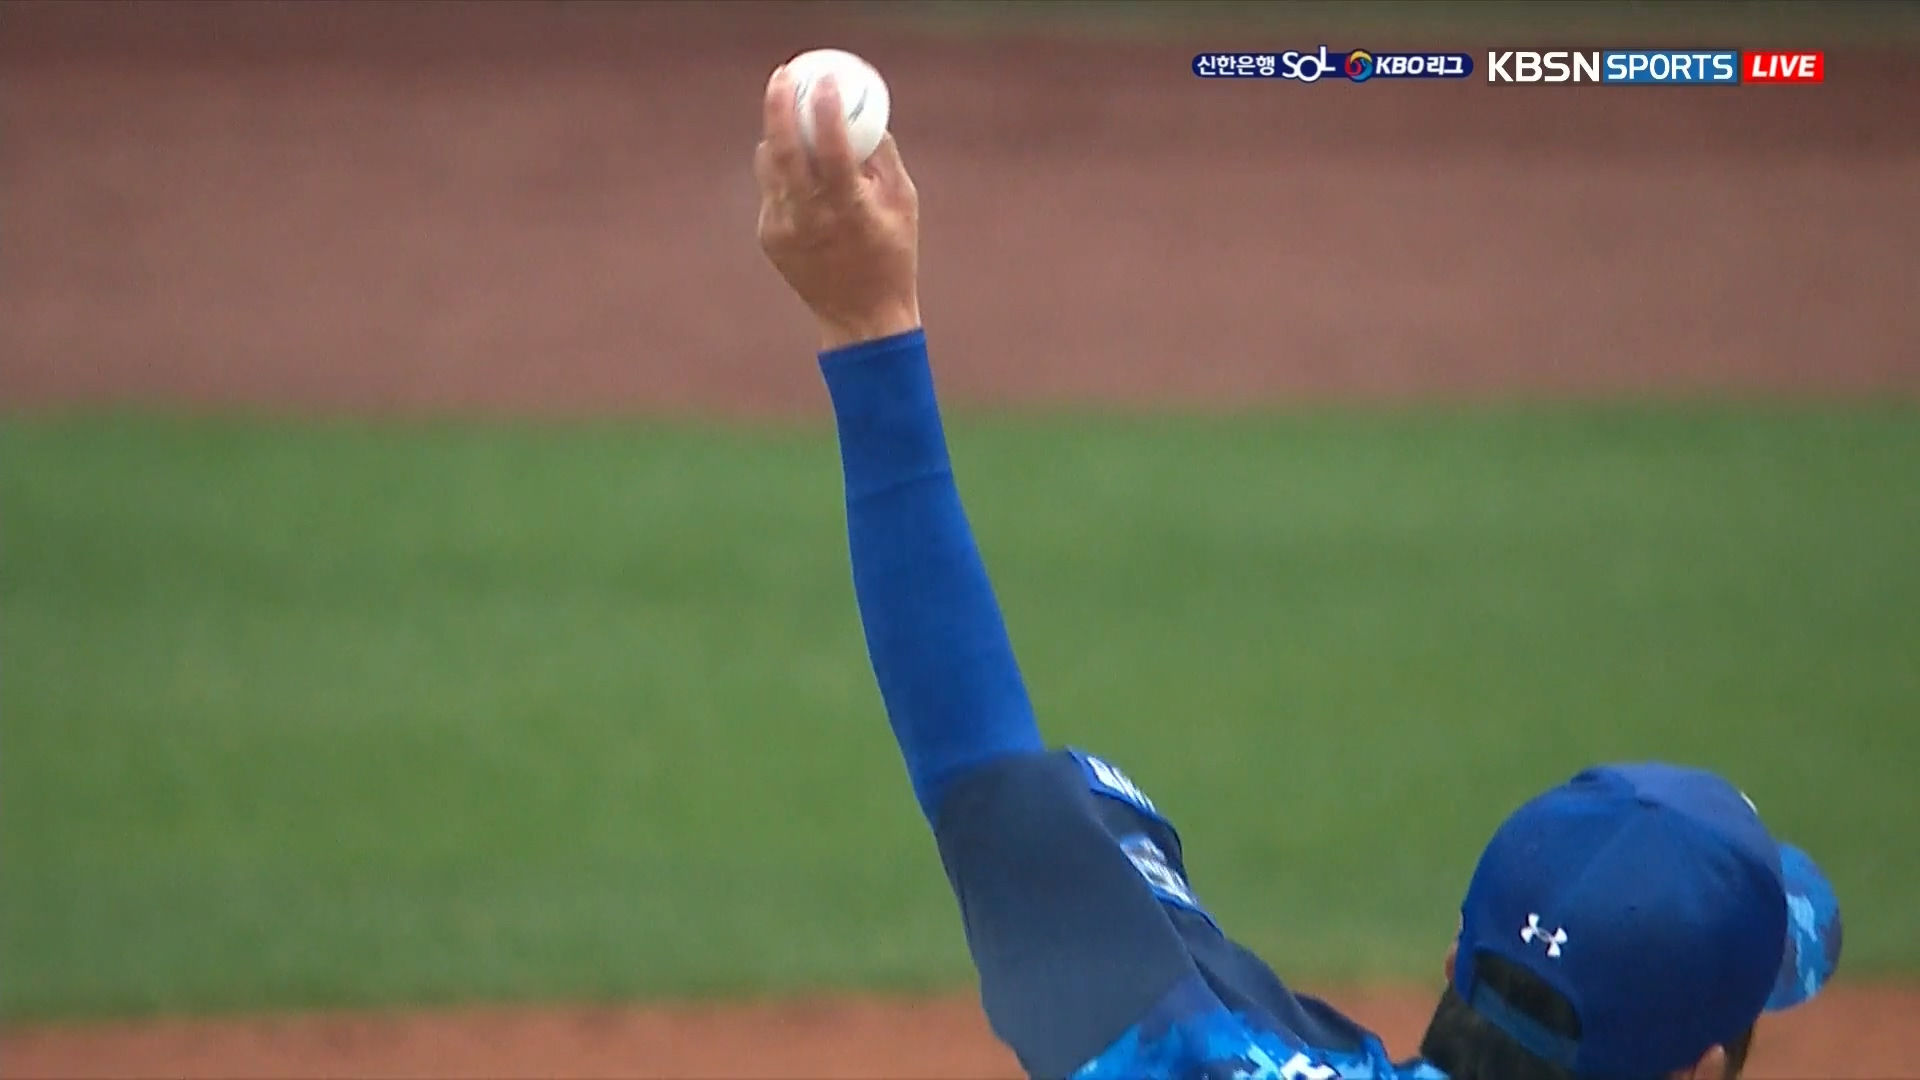zoomin_hand: (738, 37, 1047, 848)
